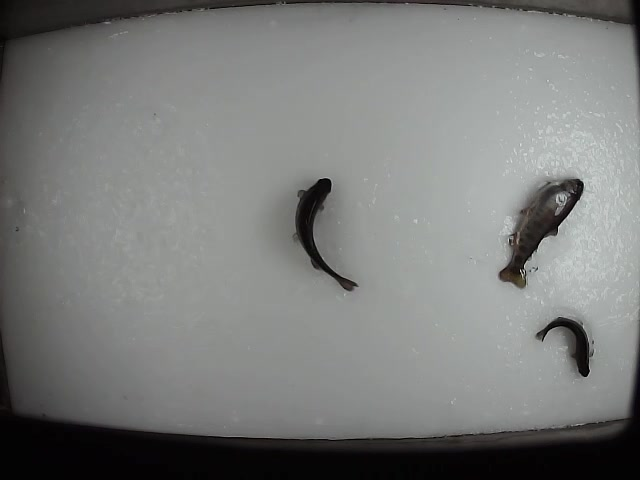Fish: (498, 180, 584, 289), (292, 177, 360, 292), (535, 317, 594, 377)
